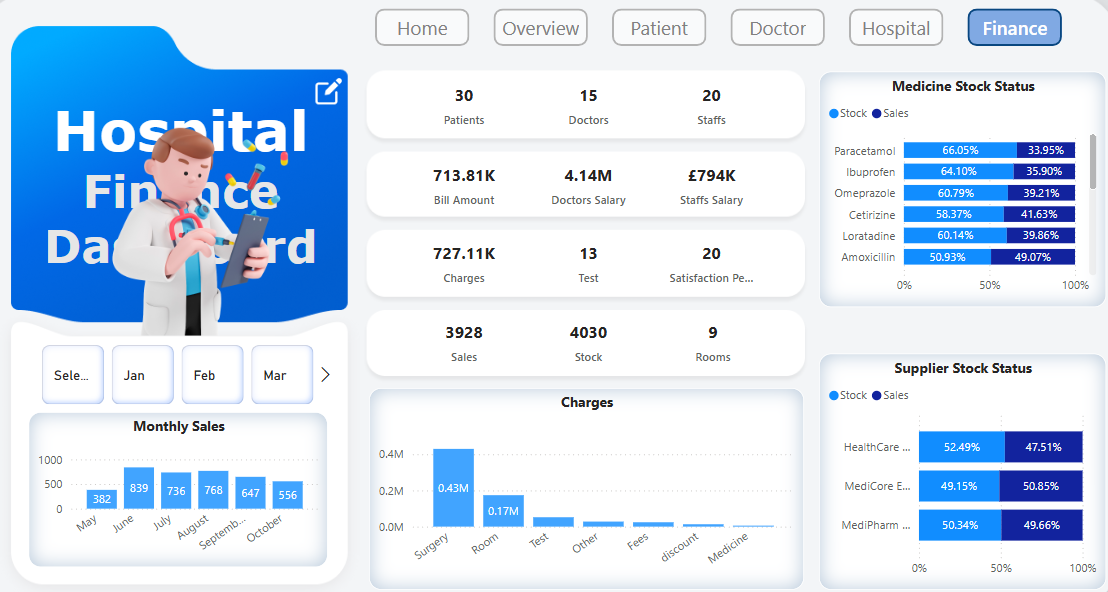

The page's visual inventory and layout, read from the dashboard file:
{"tool":"powerbi","page":{"name":"Finance","canvas":[1280,720],"ordinal":5},"visuals":[{"type":"textbox","box":[76.3,136.8,345.2,200.4],"z":0},{"type":"image","box":[381.4,117,48.1,38.5],"z":1000},{"type":"advancedSlicerVisual","title":"Rating","fields":{"Values":["Calendar.Month"]},"box":[76.4,400.5,341,73.1],"z":2000},{"type":"image","box":[146.3,157.5,252.9,243.4],"z":3000},{"type":"clusteredColumnChart","title":"Monthly Sales","fields":{"Y":["_Measures.Total_Sales_Qty"],"Category":["Calendar.Date.Variation.Date Hierarchy.Month"]},"box":[88.1,476.9,317.4,164.5],"z":4000},{"type":"columnChart","title":"Charges","fields":{"Category":["Bills.Charges_Type"],"Y":["Sum(Bills.Charges)"]},"box":[448.9,452.4,461.1,214],"z":5000},{"type":"hundredPercentStackedBarChart","title":"Medicine Stock Status","fields":{"Y":["Medical_Stock_Data.Total_Stock_Qty","_Measures.Total_Sales_Qty"],"Category":["Medical_Stock_Data.Medicine_Name"]},"box":[925.6,116.6,304.5,250],"z":6000},{"type":"hundredPercentStackedBarChart","title":"Supplier Stock Status","fields":{"Y":["Medical_Stock_Data.Total_Stock_Qty","_Measures.Total_Sales_Qty"],"Category":["Medical_Stock_Data.Supplier_Name"]},"box":[925.6,415.8,304.5,250.6],"z":7000},{"type":"card","fields":{"Values":["Count(Patient_Data.Patient_ID)"]},"box":[499.4,116.2,99.2,69.6],"z":8000},{"type":"card","fields":{"Values":["Count(Patient_Data.Doctor_ID)"]},"box":[630.7,116.2,99.2,69.6],"z":9000},{"type":"card","fields":{"Values":["Count(Staff.staff_id)"]},"box":[762.1,116.2,99.2,69.6],"z":10000},{"type":"card","fields":{"Values":["_Measures.Total_Bill_Amt"]},"box":[499.4,199.8,99.2,69.6],"z":11000},{"type":"card","fields":{"Values":["Sum(Patient_Data.Doctor_Salary)"]},"box":[630.7,199.8,99.2,69.6],"z":12000},{"type":"card","fields":{"Values":["Count(Patient_Data.Room_ID)"]},"box":[763.8,367.1,99.2,69.6],"z":13000},{"type":"card","fields":{"Values":["Count(Patient_Tests.test_id)"]},"box":[630.7,283.5,99.2,69.6],"z":14000},{"type":"card","fields":{"Values":["Count(Patient_Data.Satisfaction_ID)"]},"box":[762.1,283.5,99.2,69.6],"z":15000},{"type":"card","fields":{"Values":["_Measures.Total_Sales_Qty"]},"box":[499.4,367.1,99.2,69.6],"z":16000},{"type":"card","fields":{"Values":["Medical_Stock_Data.Total_Stock_Qty"]},"box":[631.6,367.1,99.2,69.6],"z":17000},{"type":"card","fields":{"Values":["Sum(Bills.Charges)"]},"box":[499.4,283.5,99.2,69.6],"z":18000},{"type":"card","fields":{"Values":["Sum(Staff.salary)"]},"box":[762.1,199.8,99.2,69.6],"z":19000},{"type":"actionButton","title":"Home","box":[455,50,100.2,39.8],"z":20000},{"type":"actionButton","box":[831.9,50,100.2,39.8],"z":21000},{"type":"actionButton","box":[957.6,50,100.2,39.8],"z":22000},{"type":"actionButton","box":[1083.2,50,100.2,39.8],"z":23000},{"type":"actionButton","box":[706.3,50,100.2,39.8],"z":24000},{"type":"actionButton","box":[580.6,50,100.2,39.8],"z":25000}]}

Visuals, with their boxes on the page's 1280x720 design canvas (x1, y1, x2, y2). These are canvas units, not pixel positions in the 1108x592 screenshot, which may show the page scaled, cropped or inside an application window:
textbox: [76, 137, 422, 337]
image: [381, 117, 430, 156]
"Rating" advancedSlicerVisual: [76, 400, 417, 474]
image: [146, 158, 399, 401]
"Monthly Sales" clusteredColumnChart: [88, 477, 406, 641]
"Charges" columnChart: [449, 452, 910, 666]
"Medicine Stock Status" hundredPercentStackedBarChart: [926, 117, 1230, 367]
"Supplier Stock Status" hundredPercentStackedBarChart: [926, 416, 1230, 666]
card - Count(Patient_Data.Patient_ID): [499, 116, 599, 186]
card - Count(Patient_Data.Doctor_ID): [631, 116, 730, 186]
card - Count(Staff.staff_id): [762, 116, 861, 186]
card - _Measures.Total_Bill_Amt: [499, 200, 599, 269]
card - Sum(Patient_Data.Doctor_Salary): [631, 200, 730, 269]
card - Count(Patient_Data.Room_ID): [764, 367, 863, 437]
card - Count(Patient_Tests.test_id): [631, 284, 730, 353]
card - Count(Patient_Data.Satisfaction_ID): [762, 284, 861, 353]
card - _Measures.Total_Sales_Qty: [499, 367, 599, 437]
card - Medical_Stock_Data.Total_Stock_Qty: [632, 367, 731, 437]
card - Sum(Bills.Charges): [499, 284, 599, 353]
card - Sum(Staff.salary): [762, 200, 861, 269]
"Home" actionButton: [455, 50, 555, 90]
actionButton: [832, 50, 932, 90]
actionButton: [958, 50, 1058, 90]
actionButton: [1083, 50, 1183, 90]
actionButton: [706, 50, 806, 90]
actionButton: [581, 50, 681, 90]
